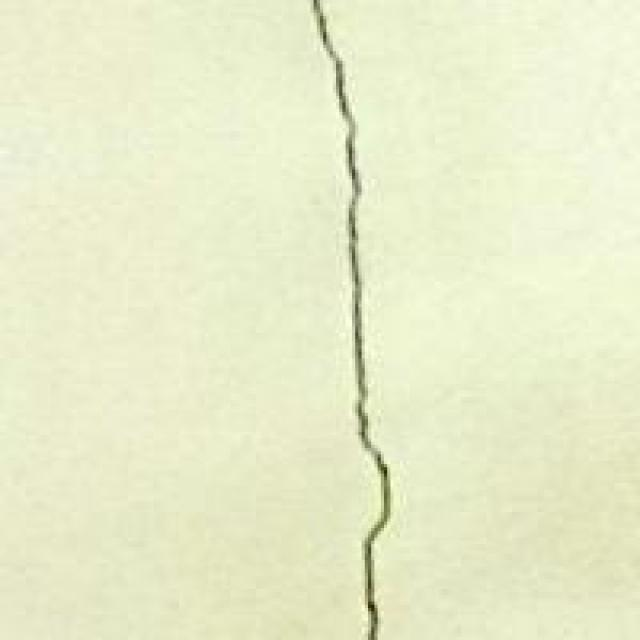crack: (266, 0, 474, 637)
